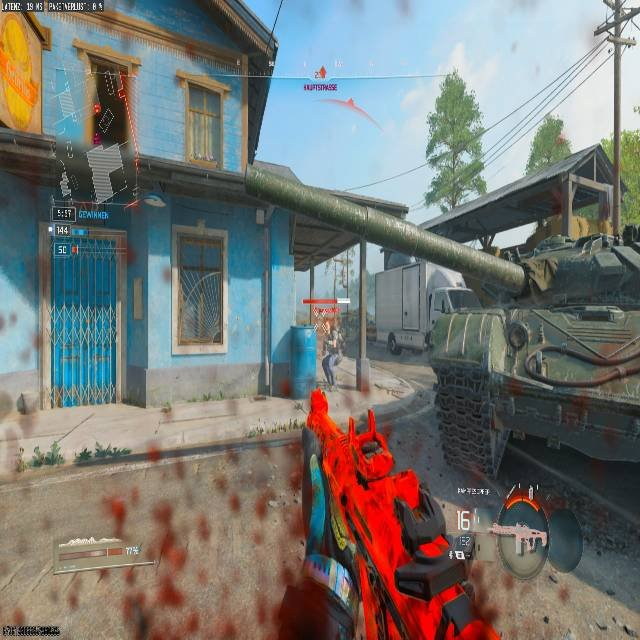head: (317, 308, 330, 327)
player: (320, 322, 343, 390)
